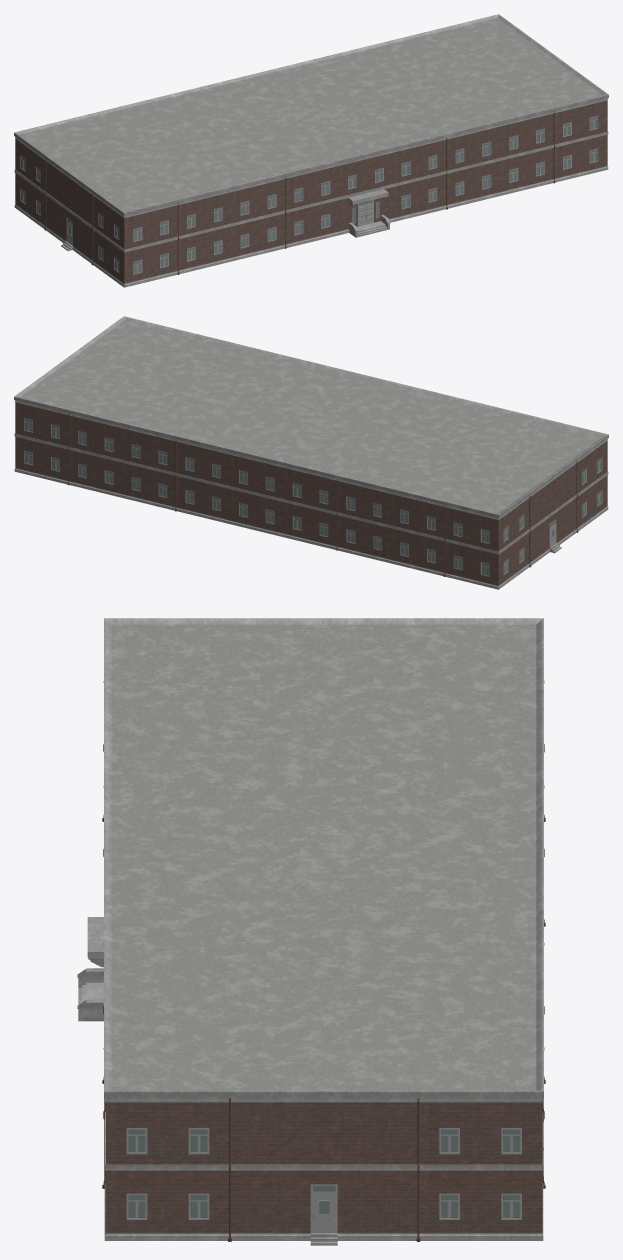
Rendered from school_building.glb.
The picture shows the model from 3 angles, top to bottom: view 1: azimuth 30°, elevation 25°; view 2: azimuth 150°, elevation 25°; view 3: azimuth 270°, elevation 25°; orthographic projection. The views are drawn at different scales.
Visible parts, largest first — view 1: Concrete_Roof.000, Concrete_Roof.001, Wall_B.038, Wall_B.018, Concrete_Floor.001, Wall_B.039, Wall_B.021, Wall_B.020, Wall_B.019, Wall_B.036, Wall_B.001, Wall_B.022 (+20 smaller); view 2: Concrete_Roof.000, Concrete_Roof.001, Concrete_Floor.001, Wall_B.027, Wall_B.033, Wall_B.028, Wall_B.030, Wall_B.031, Wall_B.013, Wall_B.008, Wall_B.011, Wall_B.007 (+18 smaller); view 3: Concrete_Roof.001, Concrete_Roof.000, Wall_D.000, Wall_C.000, Wall_B.005, Wall_B.025, Wall_B.004, Wall_B.024, Concrete_Floor.000, Concrete_Wall.001, Concrete_Front_Door.000, Single_Door.000.
Part boxes in pixels (<box>): Concrete_Roof.000: <box>14,73,366,218</box>; Concrete_Roof.001: <box>257,14,608,159</box>; Wall_B.038: <box>231,179,285,222</box>; Wall_B.018: <box>231,213,285,257</box>; Concrete_Floor.001: <box>14,204,349,287</box>; Wall_B.039: <box>286,166,339,209</box>; Wall_B.021: <box>447,126,500,170</box>; Wall_B.020: <box>393,140,446,183</box>; Wall_B.019: <box>286,200,339,243</box>; Wall_B.036: <box>124,205,177,249</box>; Wall_B.001: <box>447,161,500,204</box>; Wall_B.022: <box>500,113,553,157</box>; Concrete_Roof.000: <box>256,375,608,520</box>; Concrete_Roof.001: <box>14,316,365,461</box>; Concrete_Floor.001: <box>256,506,608,589</box>; Wall_B.027: <box>69,415,122,459</box>; Wall_B.033: <box>445,507,498,551</box>; Wall_B.028: <box>122,428,175,472</box>; Wall_B.030: <box>283,468,336,511</box>; Wall_B.031: <box>337,481,390,525</box>; Wall_B.013: <box>445,541,498,585</box>; Wall_B.008: <box>122,463,175,506</box>; Wall_B.011: <box>337,515,390,559</box>; Wall_B.007: <box>69,450,122,493</box>; Concrete_Roof.001: <box>104,855,543,1102</box>; Concrete_Roof.000: <box>104,618,543,857</box>; Wall_D.000: <box>231,1102,417,1164</box>; Wall_C.000: <box>231,1170,417,1232</box>; Wall_B.005: <box>419,1170,542,1232</box>; Wall_B.025: <box>419,1102,542,1164</box>; Wall_B.004: <box>106,1170,228,1232</box>; Wall_B.024: <box>106,1102,228,1164</box>; Concrete_Floor.000: <box>104,1181,543,1240</box>; Concrete_Wall.001: <box>105,1111,543,1170</box>; Concrete_Front_Door.000: <box>77,917,103,1021</box>; Single_Door.000: <box>310,1184,337,1232</box>.
Size of the model in its own units: 55.17 by 7.99 by 22.65.
Materials: 14 (14 with a texture image).
